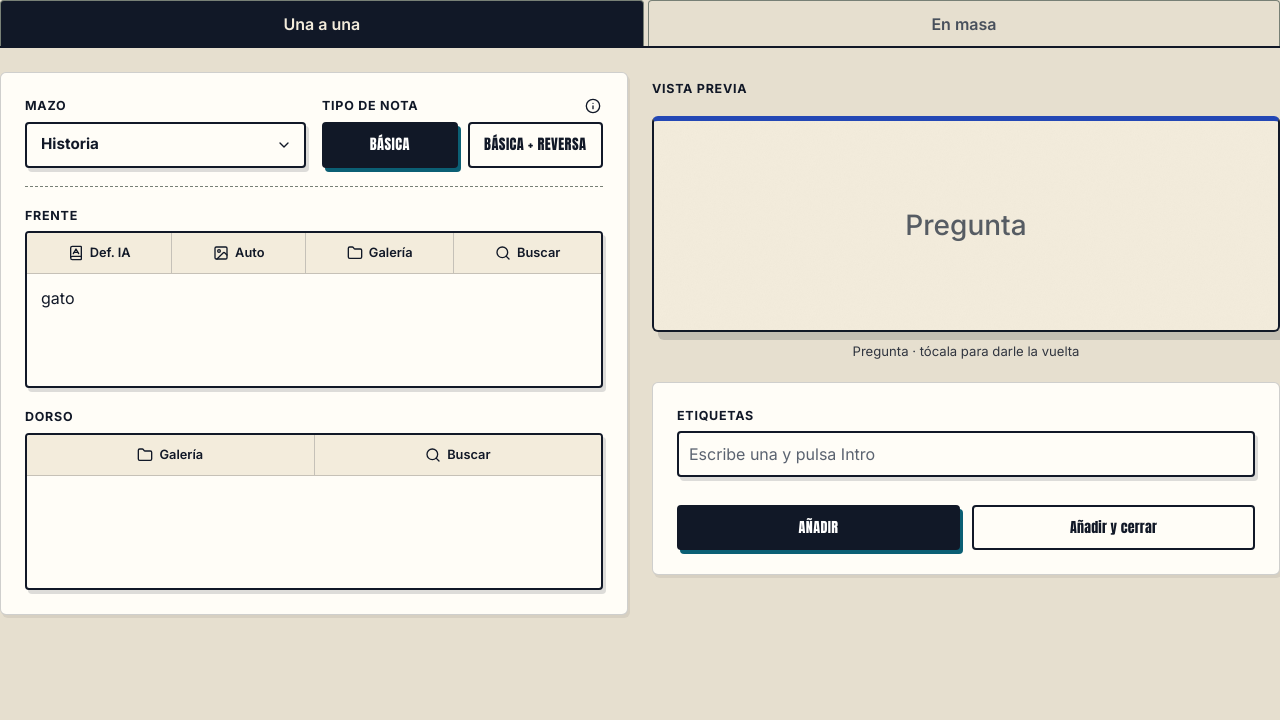
Test: looking up a definition › asks before replacing a back that already has content, and keeps it if refused
Clear the field named "Frente de la tarjeta" at (58, 298), box [41,288,74,308]
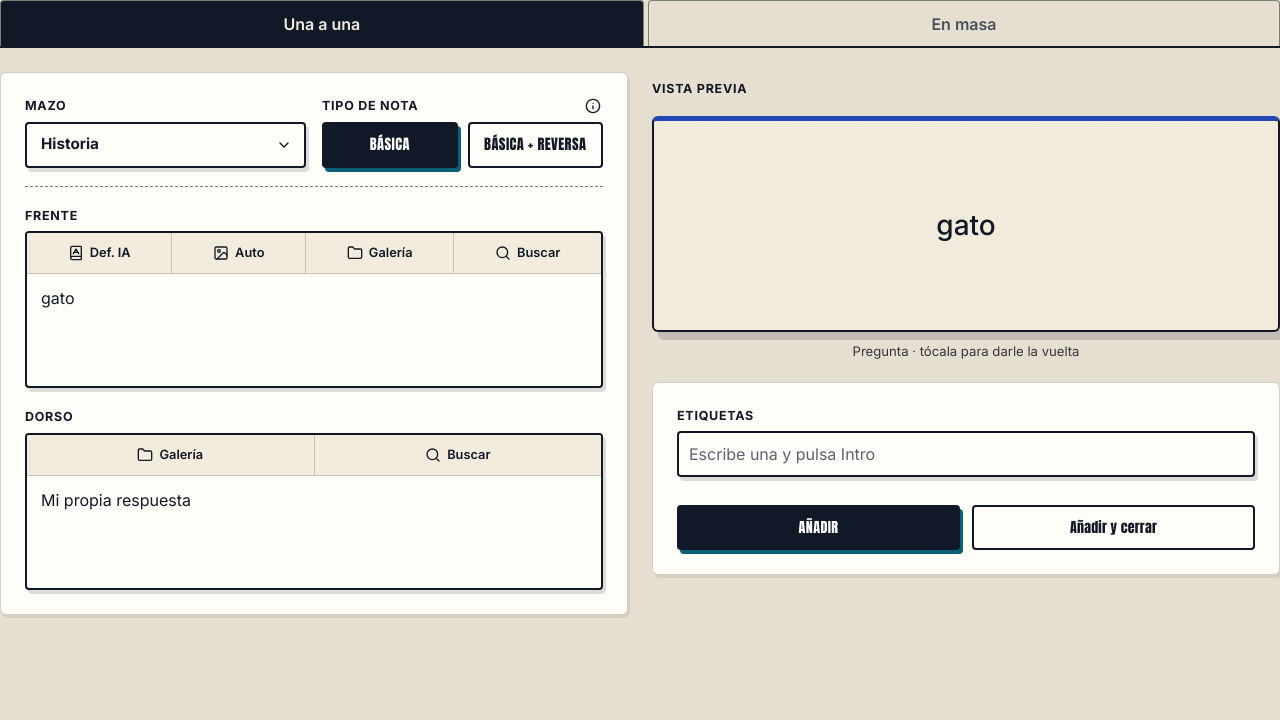
Click the button "Def. IA" at (100, 253), box [27,233,172,273]
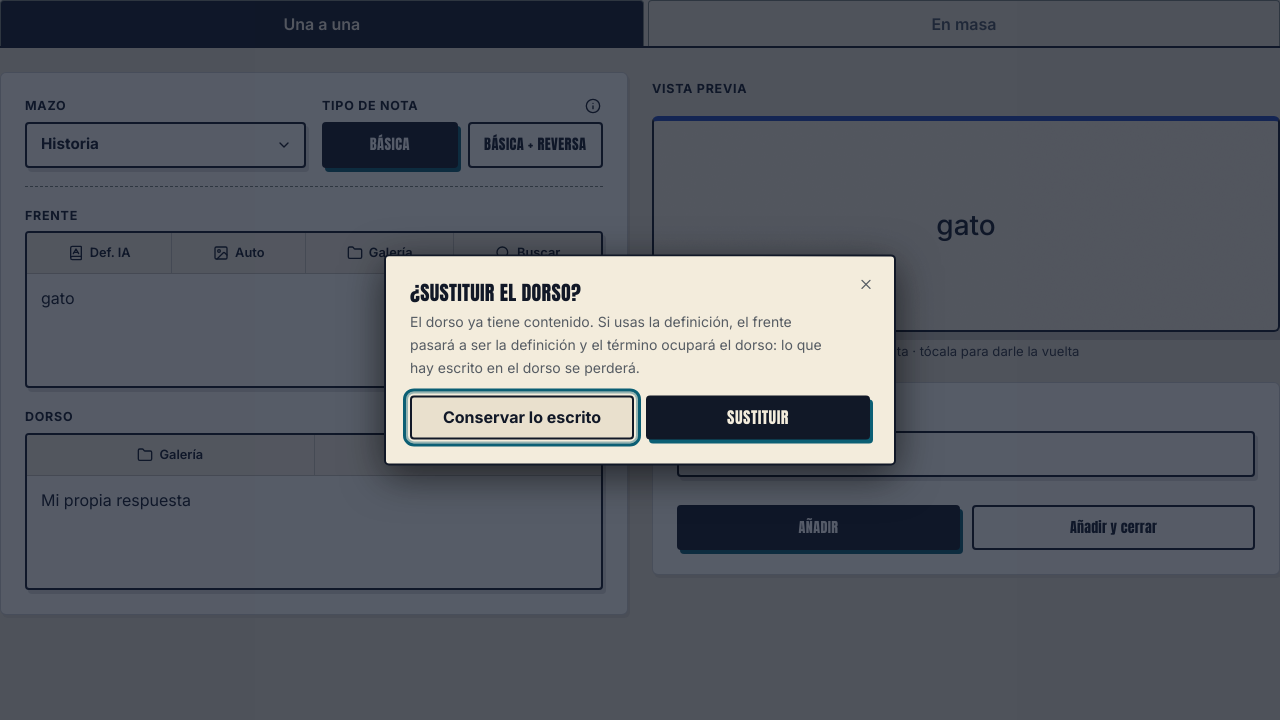
Check: the heading "¿Sustituir el dorso?" is shown, box [410,277,581,308]
Click the button "Conservar lo escrito" at (522, 418), box [410,396,634,440]
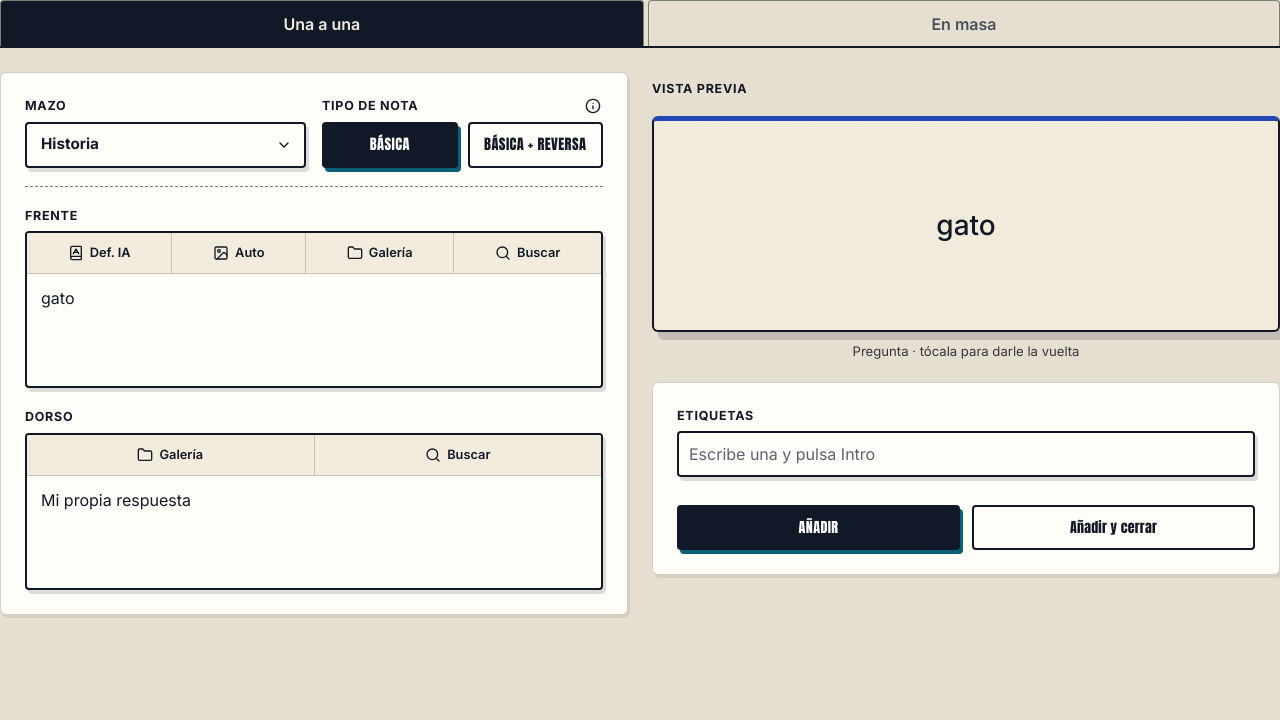
Check: the heading "¿Sustituir el dorso?" is gone
